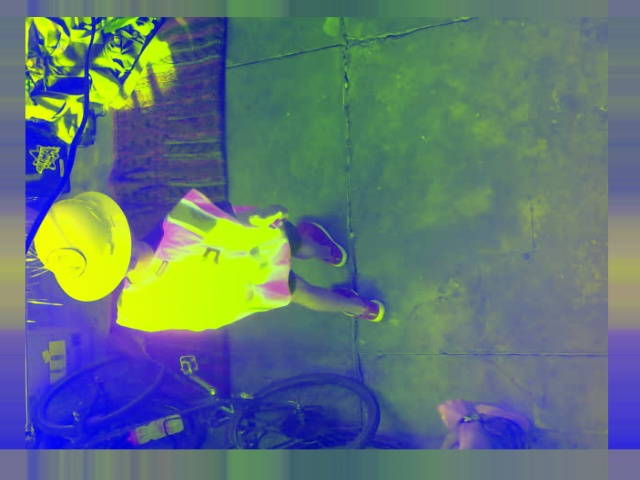two: (44, 246, 86, 279)
